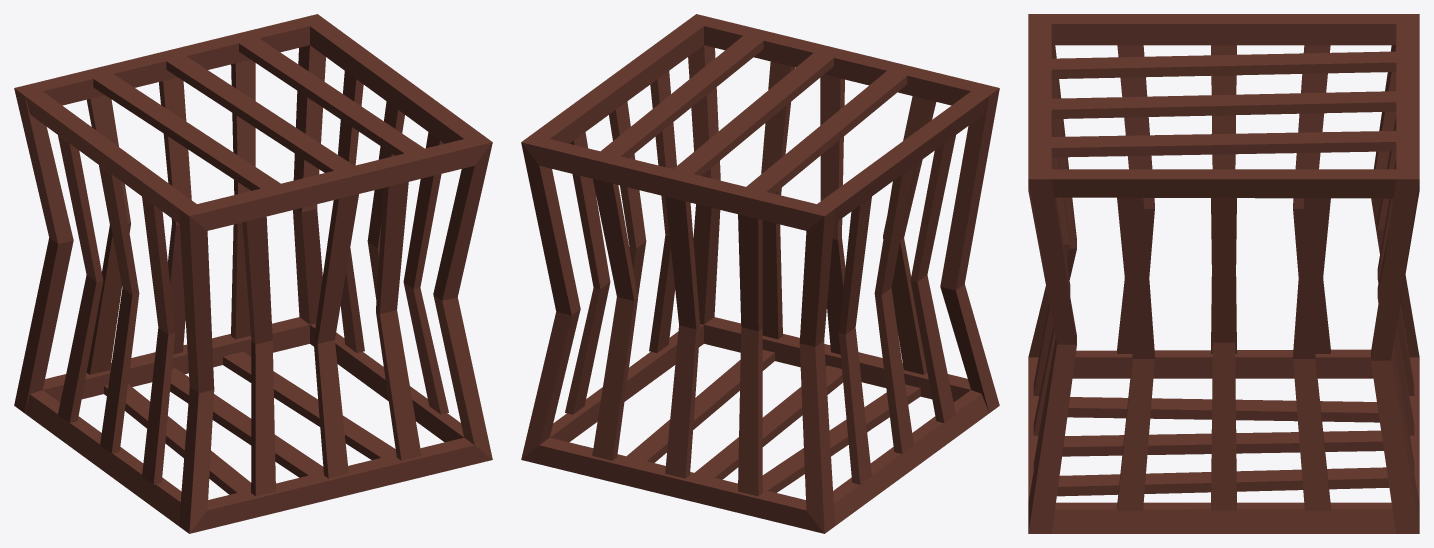
The model's file is Cage_3_Red.fbx.
The picture shows the model from 3 angles, left to right: view 1: azimuth 30°, elevation 25°; view 2: azimuth 150°, elevation 25°; view 3: azimuth 270°, elevation 25°; orthographic projection. The views are drawn at different scales.
Visible parts, largest first — view 1: Cage_3_Red; view 2: Cage_3_Red; view 3: Cage_3_Red.
Boxes of the visible parts, x1,y1,x2,y2 form: Cage_3_Red: [14, 14, 492, 533]; Cage_3_Red: [521, 14, 999, 533]; Cage_3_Red: [1028, 14, 1419, 533].
Size of the model in its own units: 150 by 150 by 150.
